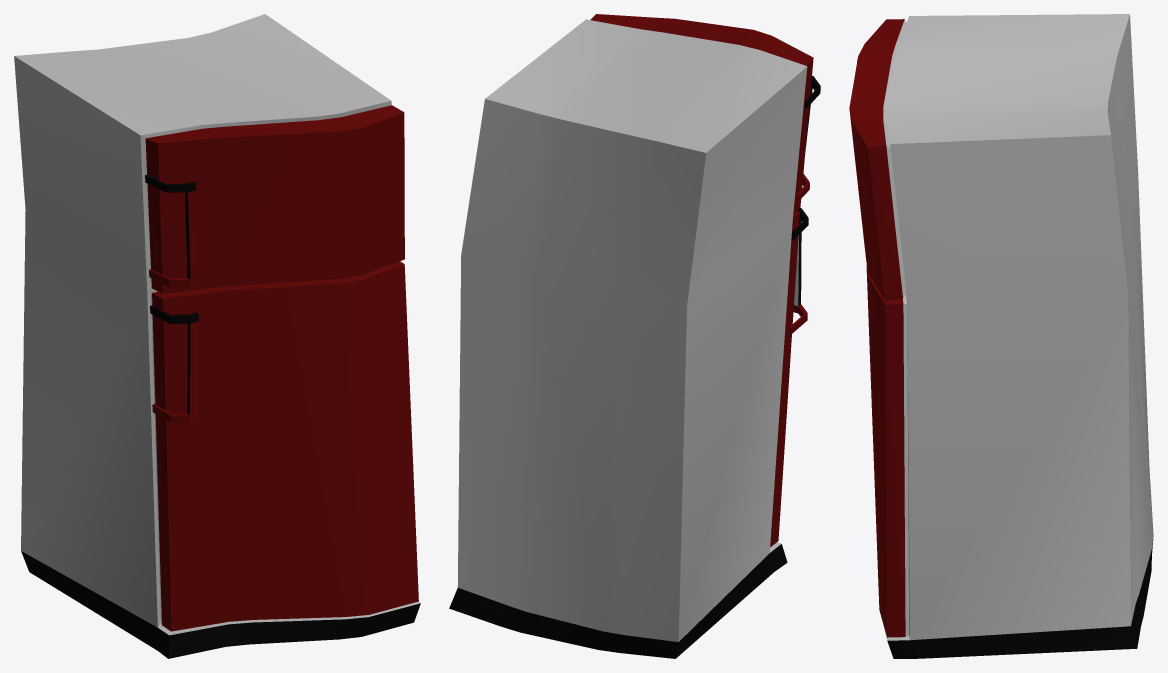
Rendered from Kuehlschraenk.FBX.
3 renders of one model, left to right at view 1: azimuth 30°, elevation 25°; view 2: azimuth 150°, elevation 25°; view 3: azimuth 270°, elevation 25°, orthographic. The views are drawn at different scales.
Parts seen in each view (by area): view 1: Box001; view 2: Box001; view 3: Box001.
Part boxes in pixels (<box>): Box001: <box>14,14,420,658</box>; Box001: <box>449,14,820,658</box>; Box001: <box>849,14,1153,658</box>.
Size of the model in its own units: 15.52 by 28.95 by 15.35.
